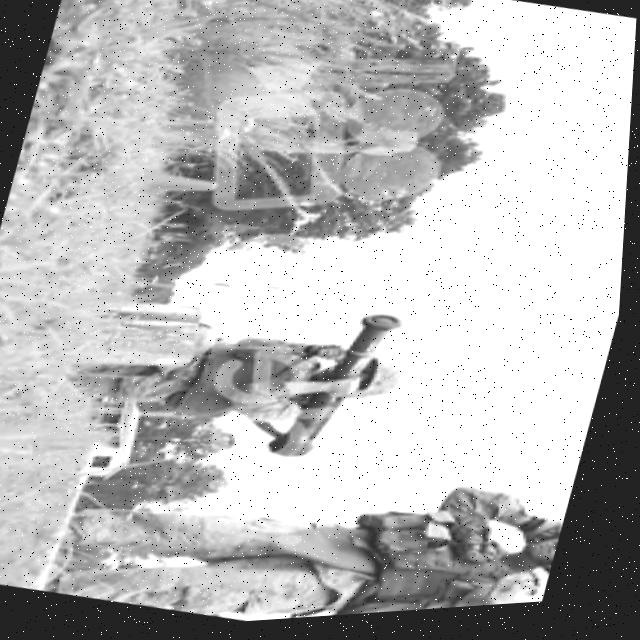rocket: (243, 289, 437, 490)
